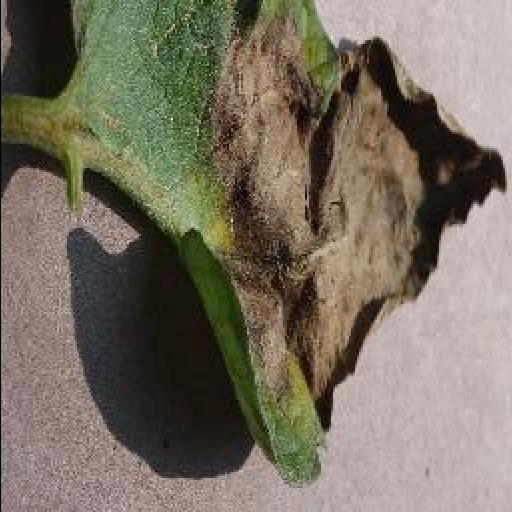disease_tomato: (68, 0, 510, 488)
